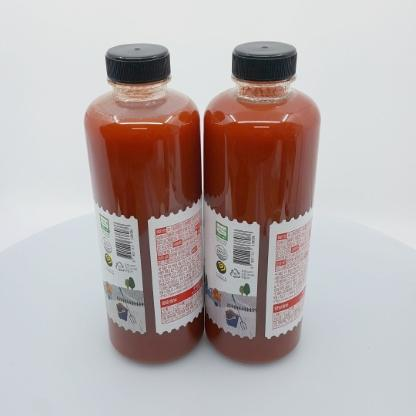-------------------900ML: (83, 42, 203, 365), (202, 40, 320, 365)
